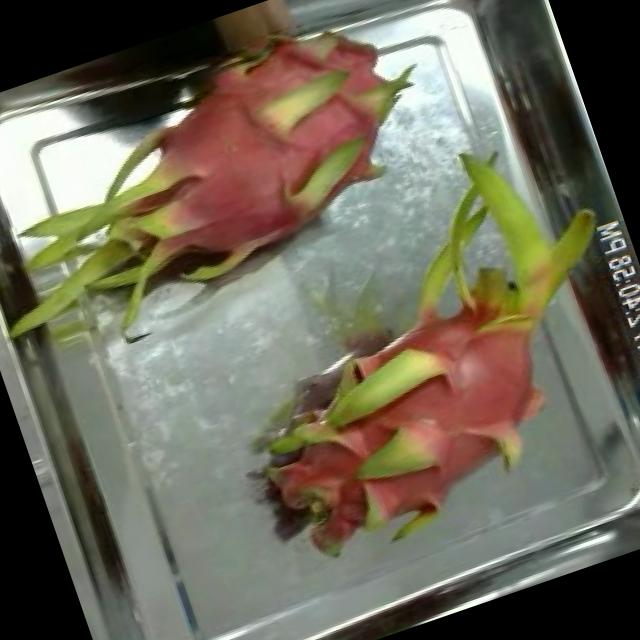Fruit: (185, 0, 324, 77)
